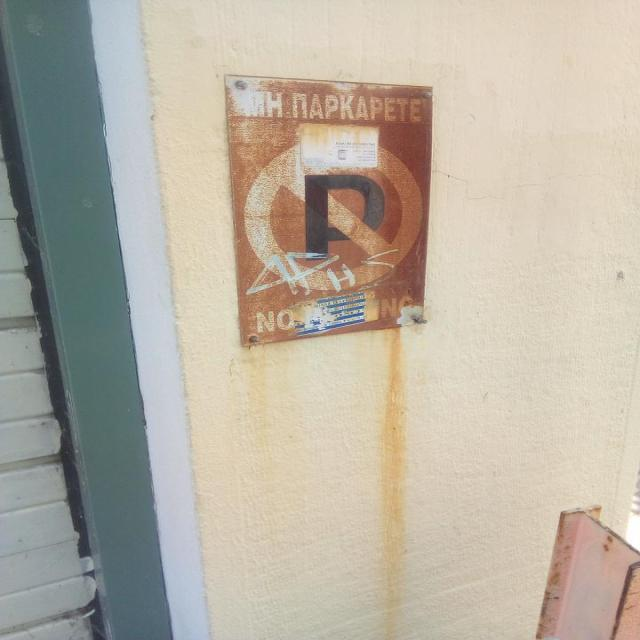nonspitting: (246, 247, 398, 300)
